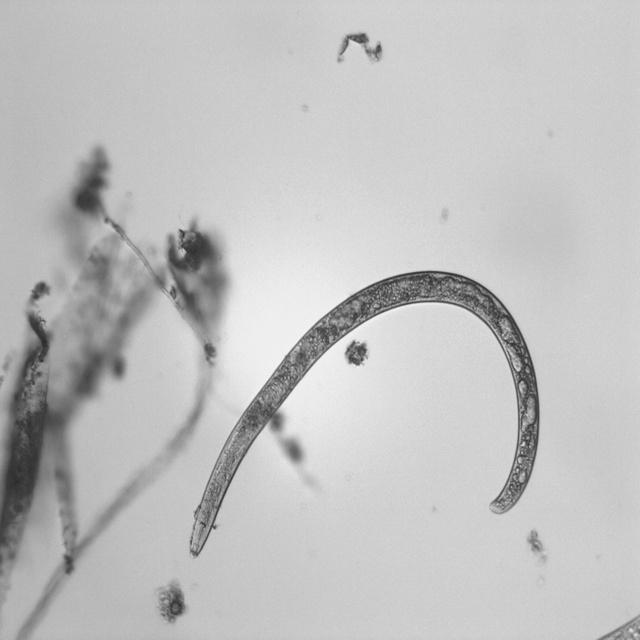Helicotylenchus: (184, 267, 546, 558)
